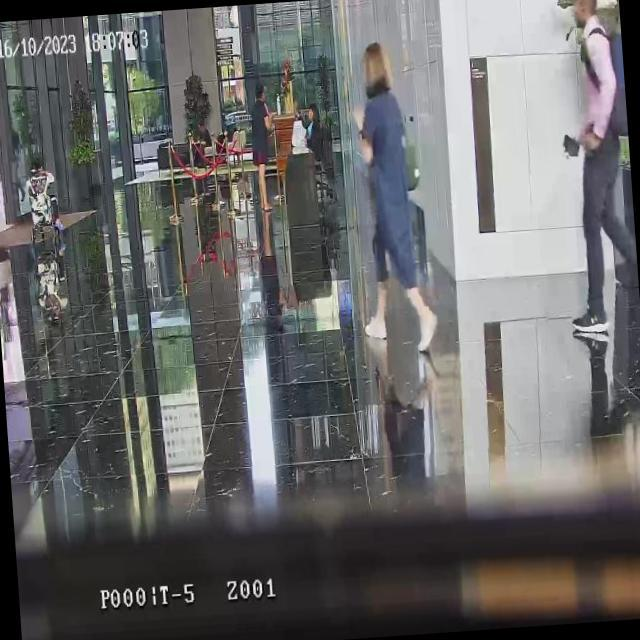person: (547, 0, 640, 331), (345, 38, 439, 348), (246, 82, 278, 211), (302, 102, 336, 200), (28, 156, 66, 236), (190, 119, 214, 170)
